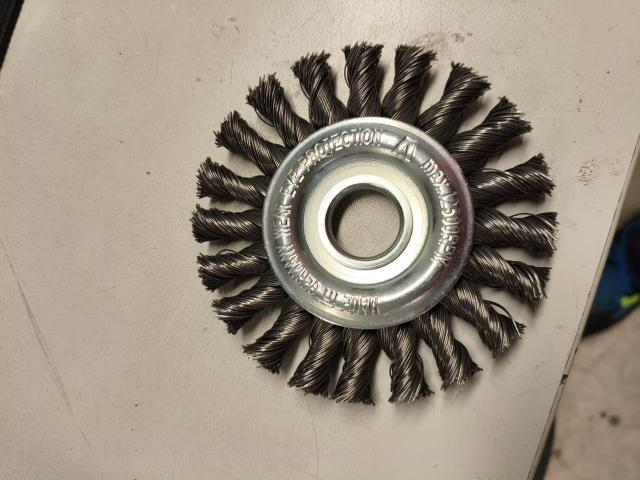Metal: (191, 41, 557, 406)
